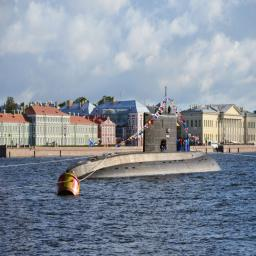submarine: (67, 114, 225, 182)
